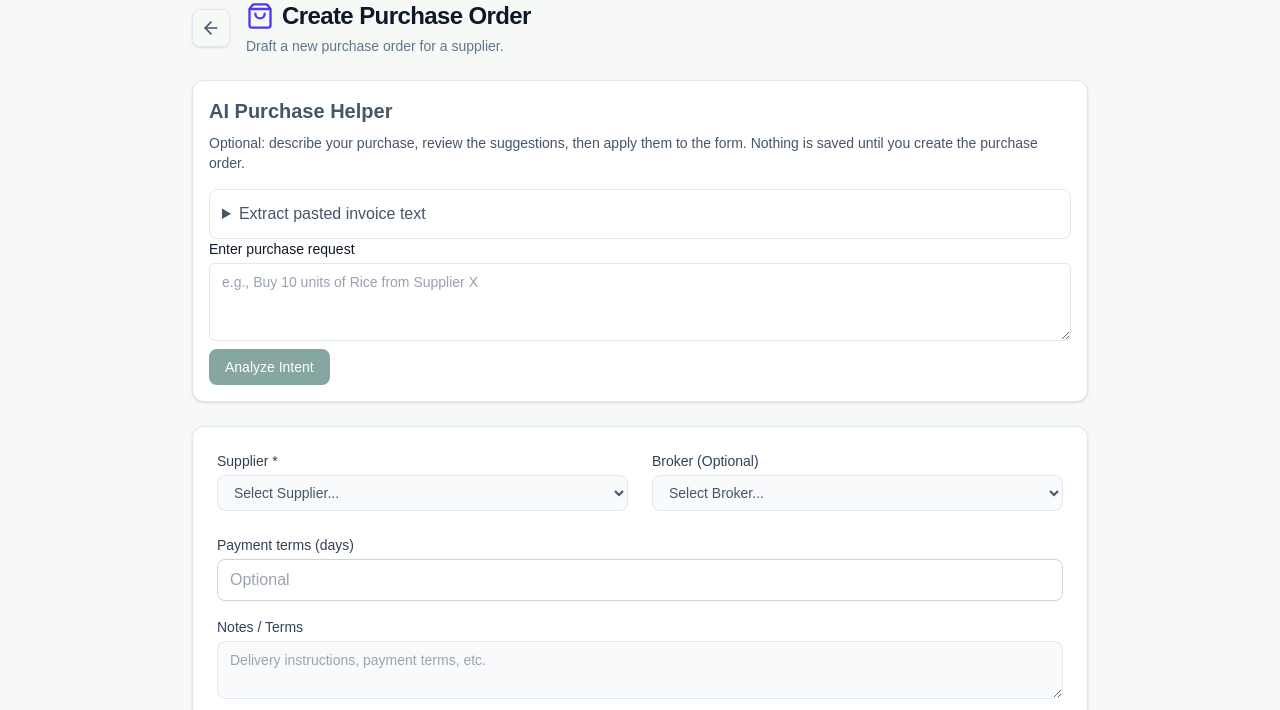
Test: Purchase assistant and authoritative submit › prevents duplicate preview requests and keeps failed previews unsaved
Type "Buy 2.5 Rice from Supplier A" into the text box labelled "Enter purchase request". click: {"x": 640, "y": 302}
box: [209,263,1071,341]
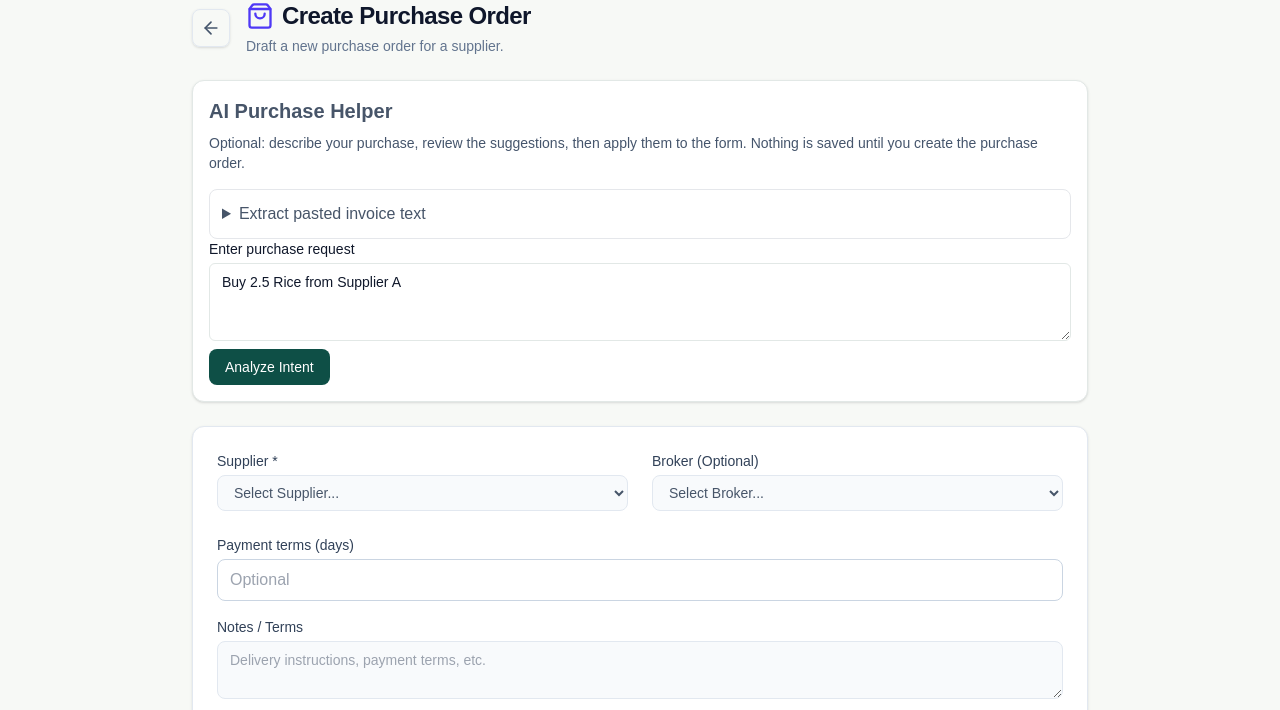
Click the button "Analyze Intent". click: {"x": 269, "y": 367}
box: [209,349,330,385]
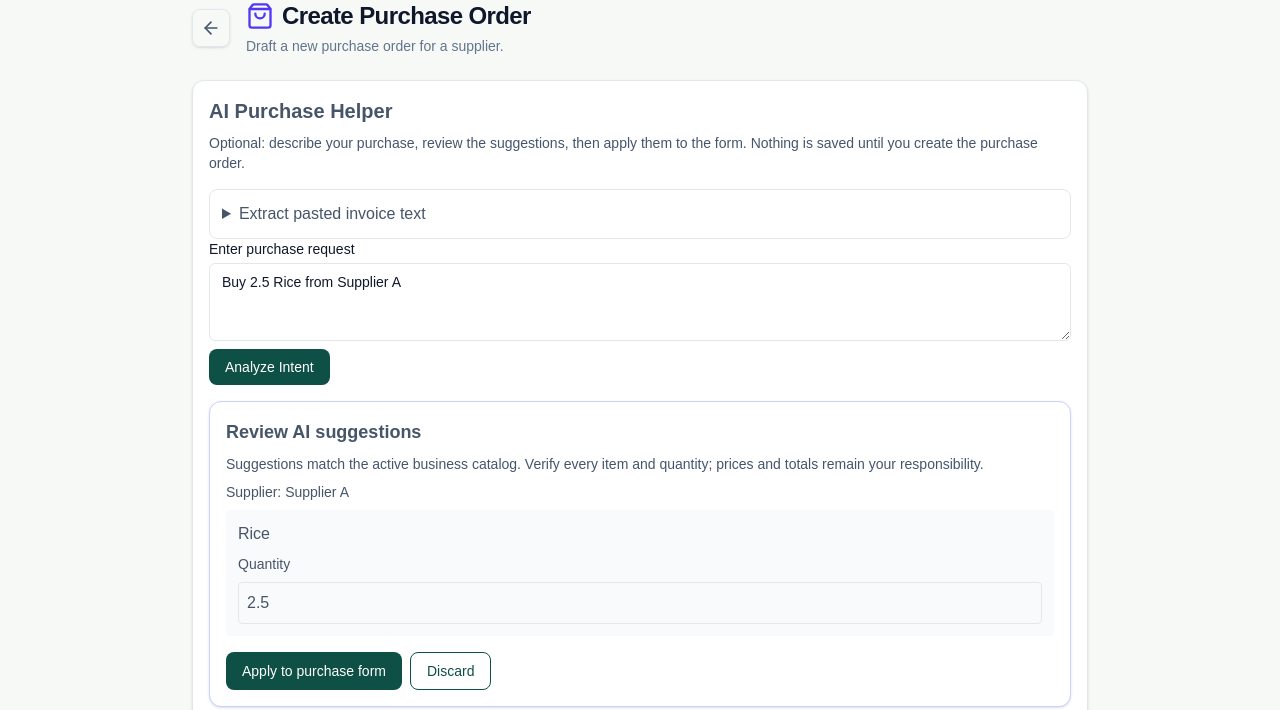
expect the heading "Review AI suggestions" is shown: met, box [226,422,421,442]
Click the button "Apply to purchase form". click: {"x": 314, "y": 671}
box: [226,652,402,690]
(page scrolled)
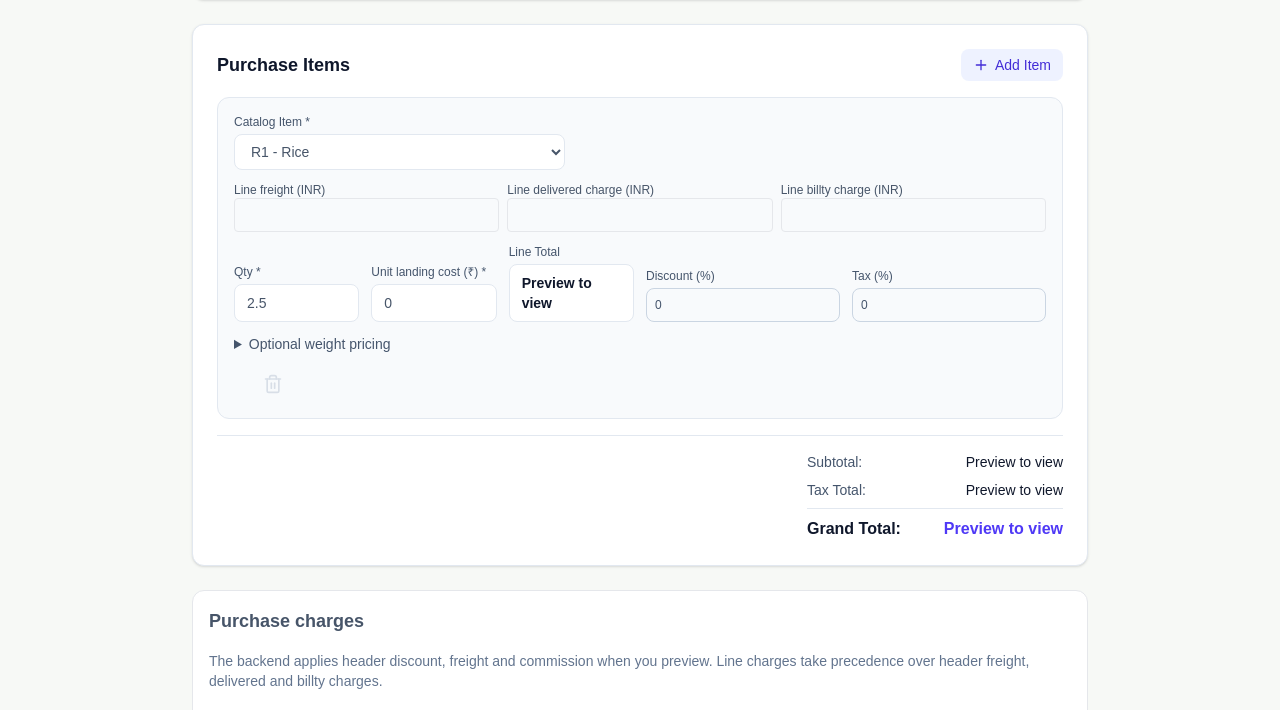
Submit the form
Submit the form
(page scrolled)
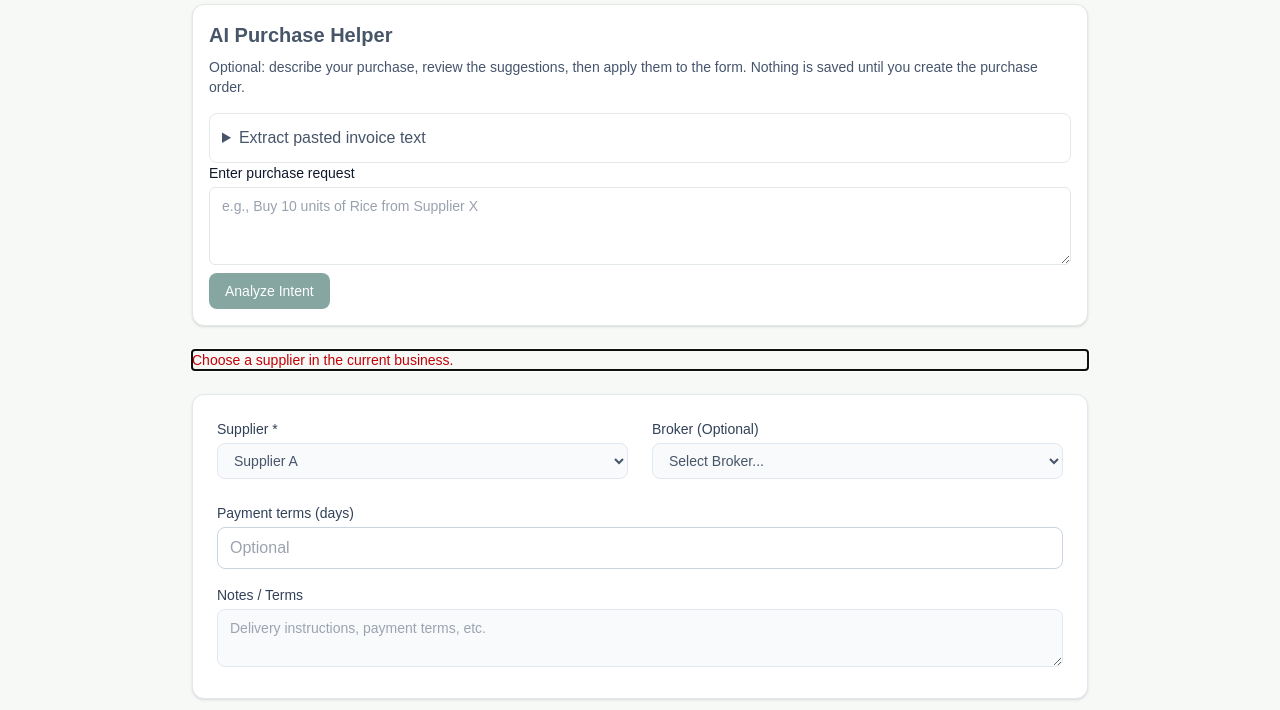
expect the message shows "Choose a supplier": met, box [192,352,454,368]
